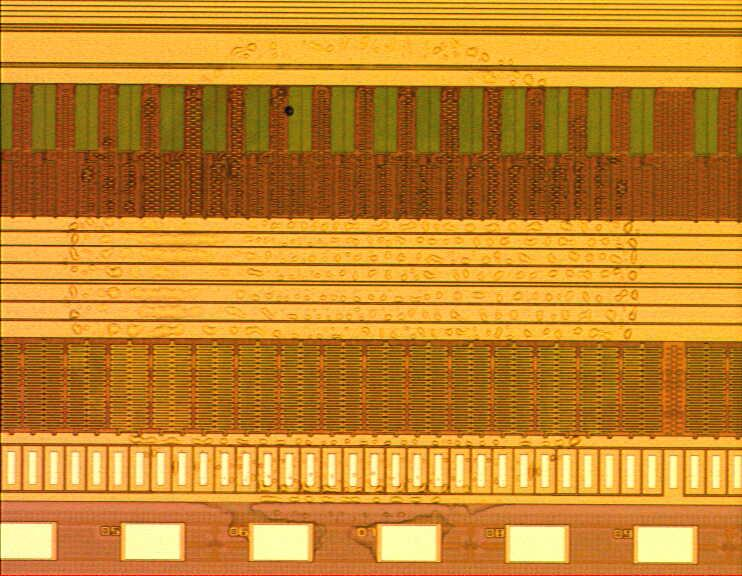PO CONTAMINATION: (65, 33, 646, 564)
